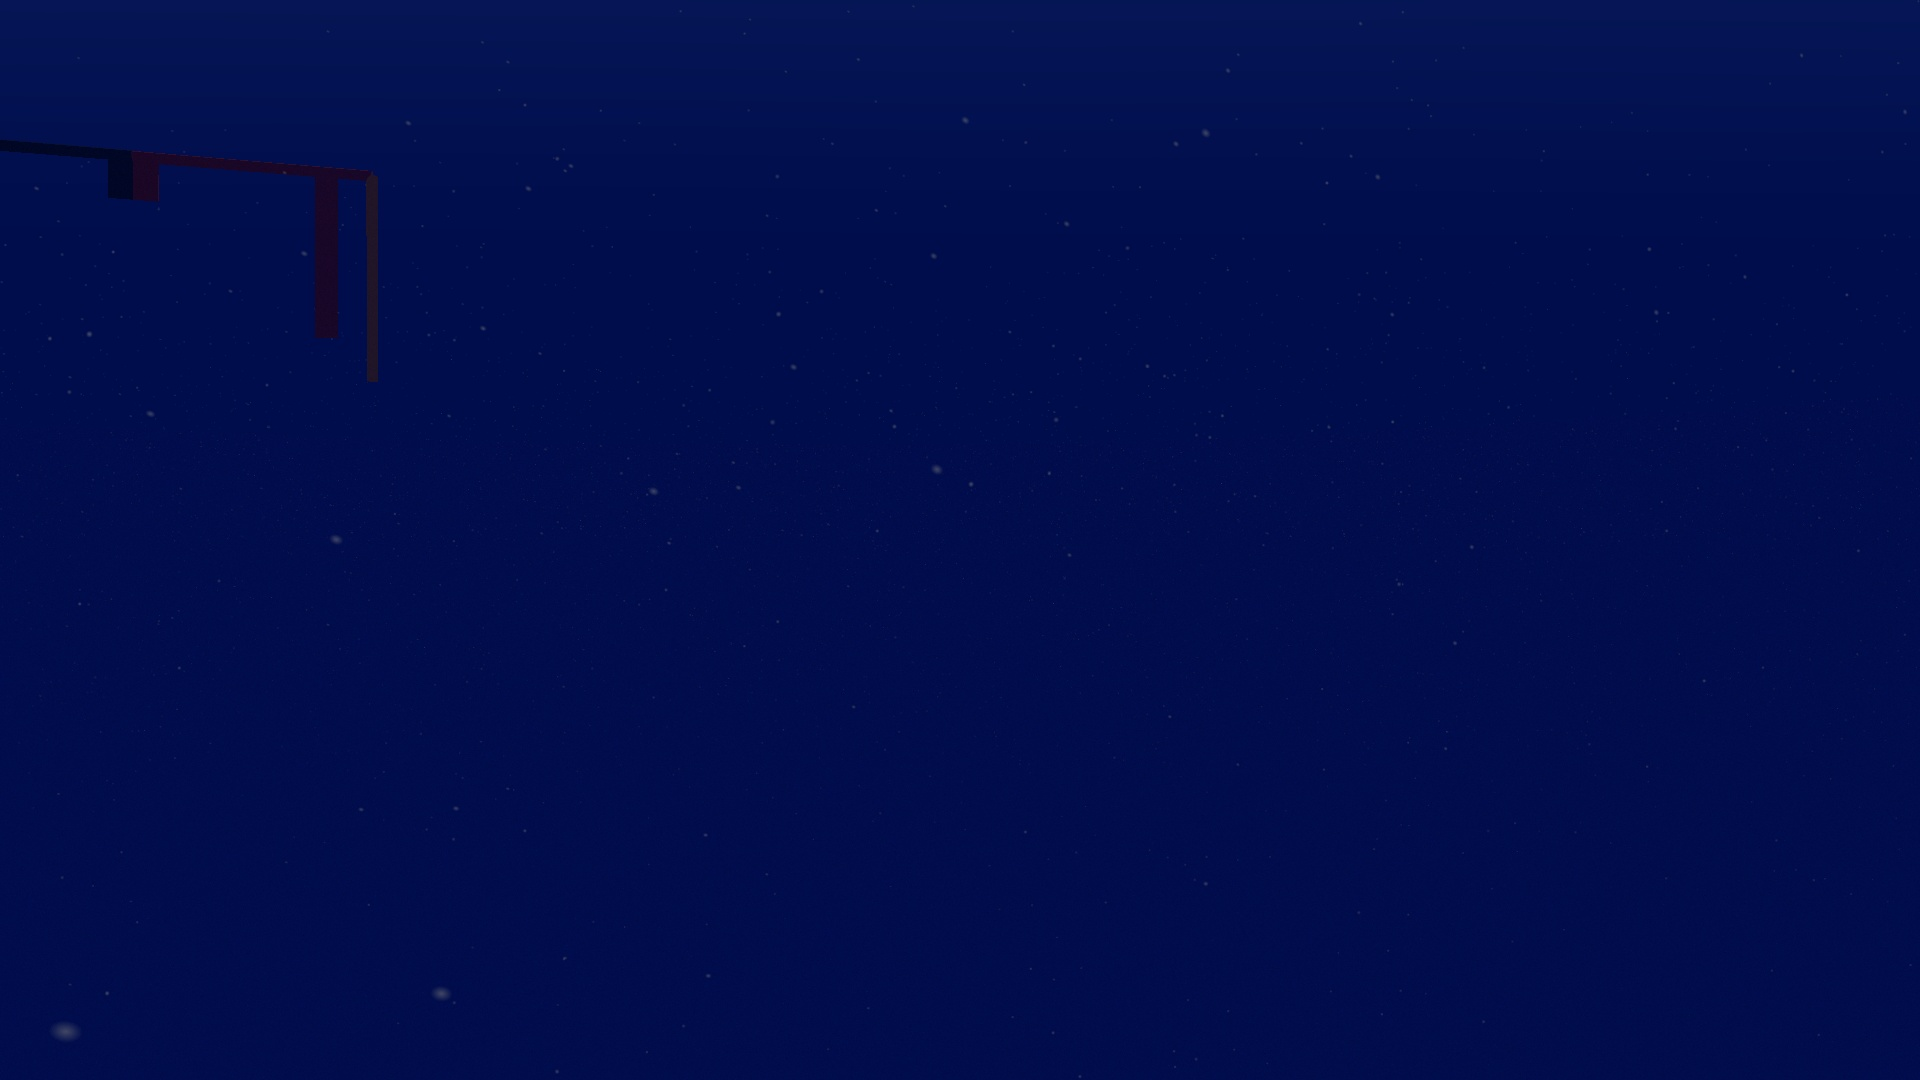Gate: (1, 131, 386, 398)
